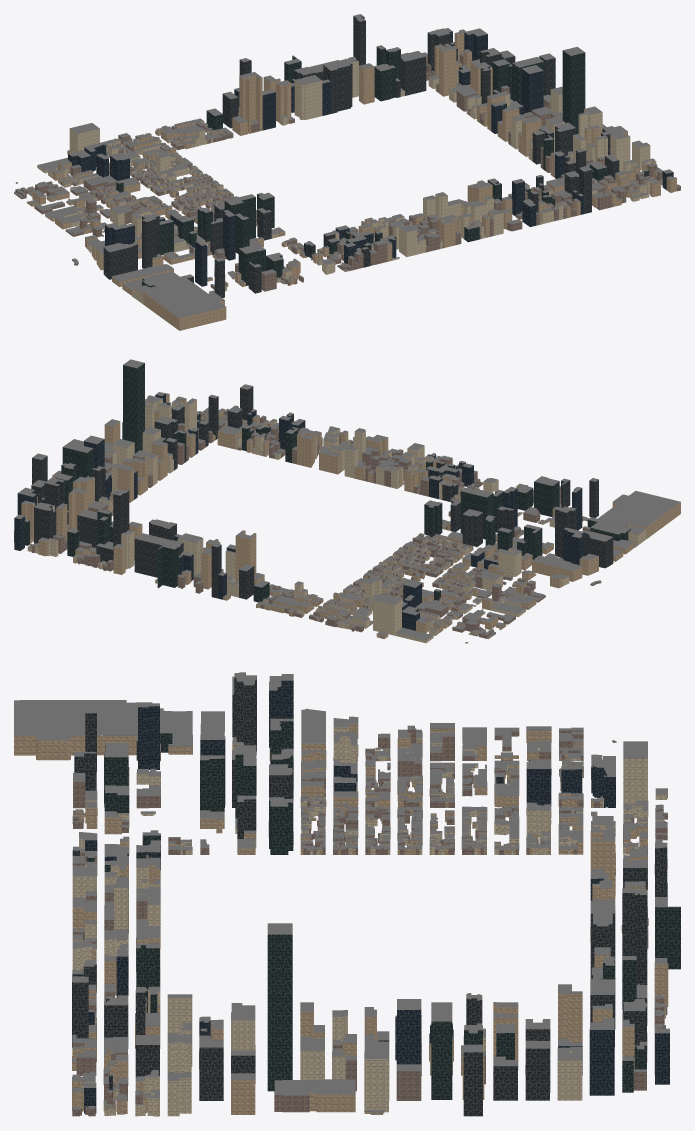
Rendered from far.glb.
The picture shows the model from 3 angles, top to bottom: view 1: azimuth 30°, elevation 25°; view 2: azimuth 150°, elevation 25°; view 3: azimuth 270°, elevation 25°; orthographic projection. The views are drawn at different scales.
Parts seen in each view (by area): view 1: FAR_TS_cell_2_-2, FAR_TS_cell_1_1, FAR_TS_cell_-3_1, FAR_TS_cell_2_0, FAR_TS_cell_-4_-3, FAR_TS_cell_2_-1, FAR_TS_cell_0_1, FAR_TS_cell_-4_-1, FAR_TS_cell_-3_-1, FAR_TS_cell_-1_1, FAR_TS_cell_2_1, FAR_TS_cell_-3_-2 (+26 smaller); view 2: FAR_TS_cell_-3_-1, FAR_TS_cell_-4_-1, FAR_TS_cell_2_-1, FAR_TS_cell_0_2, FAR_TS_cell_1_-2, FAR_TS_cell_2_0, FAR_TS_cell_1_2, FAR_TS_cell_-1_-2, FAR_TS_cell_-4_0, FAR_TS_cell_-4_-3, FAR_TS_cell_0_-2, FAR_TS_cell_-1_2 (+24 smaller); view 3: FAR_TS_cell_2_-1, FAR_TS_cell_2_0, FAR_TS_cell_2_-2, FAR_TS_cell_2_1, FAR_TS_cell_-4_-1, FAR_TS_cell_-3_1, FAR_TS_cell_-4_-3, FAR_TS_cell_-3_-1, FAR_TS_cell_-3_-2, FAR_TS_cell_-3_0, FAR_TS_cell_-4_0, FAR_TS_cell_-4_-2 (+25 smaller).
Boxes of the visible parts, bbox=[...] form: FAR_TS_cell_2_-2: bbox=[565, 125, 662, 193]; FAR_TS_cell_1_1: bbox=[374, 43, 477, 111]; FAR_TS_cell_-3_1: bbox=[68, 142, 189, 194]; FAR_TS_cell_2_0: bbox=[480, 53, 562, 126]; FAR_TS_cell_-4_-3: bbox=[143, 257, 226, 330]; FAR_TS_cell_2_-1: bbox=[525, 46, 627, 155]; FAR_TS_cell_0_1: bbox=[294, 61, 374, 120]; FAR_TS_cell_-4_-1: bbox=[85, 209, 194, 268]; FAR_TS_cell_-3_-1: bbox=[170, 194, 271, 255]; FAR_TS_cell_-1_1: bbox=[216, 72, 294, 139]; FAR_TS_cell_2_1: bbox=[434, 28, 515, 102]; FAR_TS_cell_-3_-2: bbox=[212, 209, 300, 286]; FAR_TS_cell_-3_-1: bbox=[417, 488, 523, 568]; FAR_TS_cell_-4_-1: bbox=[484, 506, 584, 588]; FAR_TS_cell_2_-1: bbox=[104, 359, 177, 466]; FAR_TS_cell_0_2: bbox=[113, 530, 193, 588]; FAR_TS_cell_1_-2: bbox=[186, 394, 280, 458]; FAR_TS_cell_2_0: bbox=[32, 435, 132, 501]; FAR_TS_cell_1_2: bbox=[47, 489, 129, 571]; FAR_TS_cell_-1_-2: bbox=[344, 428, 426, 492]; FAR_TS_cell_-4_0: bbox=[454, 563, 545, 617]; FAR_TS_cell_-4_-3: bbox=[589, 478, 680, 538]; FAR_TS_cell_0_-2: bbox=[272, 416, 347, 474]; FAR_TS_cell_-1_2: bbox=[193, 543, 269, 602]; FAR_TS_cell_2_-1: bbox=[231, 923, 356, 1114]; FAR_TS_cell_2_0: bbox=[364, 993, 485, 1116]; FAR_TS_cell_2_-2: bbox=[103, 994, 223, 1116]; FAR_TS_cell_2_1: bbox=[493, 1002, 614, 1100]; FAR_TS_cell_-4_-1: bbox=[232, 672, 358, 781]; FAR_TS_cell_-3_1: bbox=[494, 756, 615, 843]; FAR_TS_cell_-4_-3: bbox=[14, 700, 137, 771]; FAR_TS_cell_-3_-1: bbox=[232, 745, 358, 845]; FAR_TS_cell_-3_-2: bbox=[104, 735, 225, 834]; FAR_TS_cell_-3_0: bbox=[365, 774, 487, 842]; FAR_TS_cell_-4_0: bbox=[365, 722, 486, 787]; FAR_TS_cell_-4_-2: bbox=[128, 703, 224, 785].
Size of the model in its own units: 2372 by 427 by 1648.
Materials: 7 (6 with a texture image).
